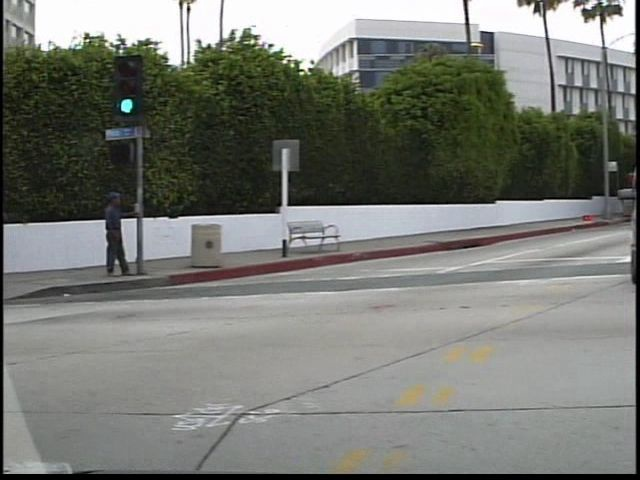person: (99, 187, 137, 282)
